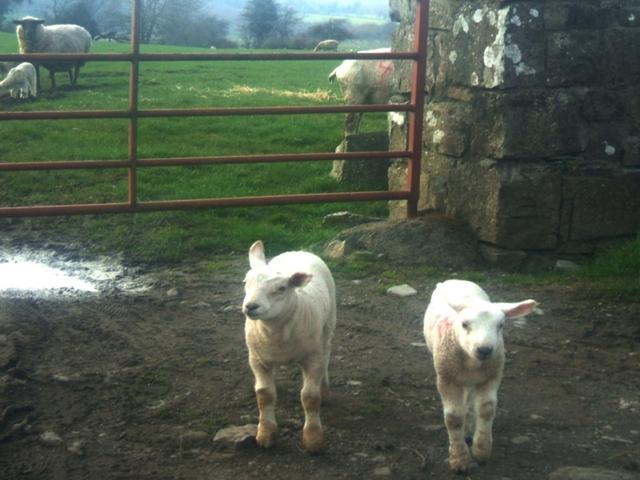sheep: (200, 223, 406, 450), (414, 259, 557, 463)
